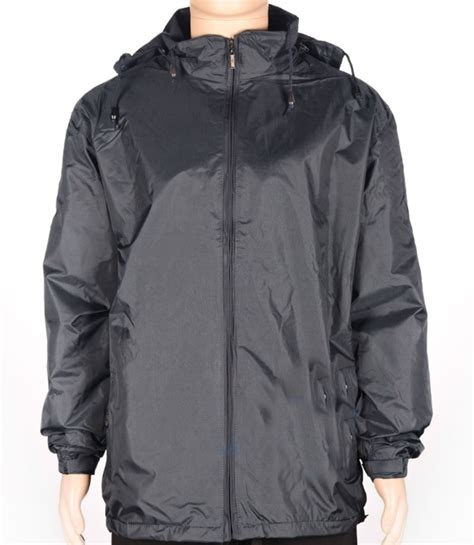nylon: (46, 5, 432, 540)
